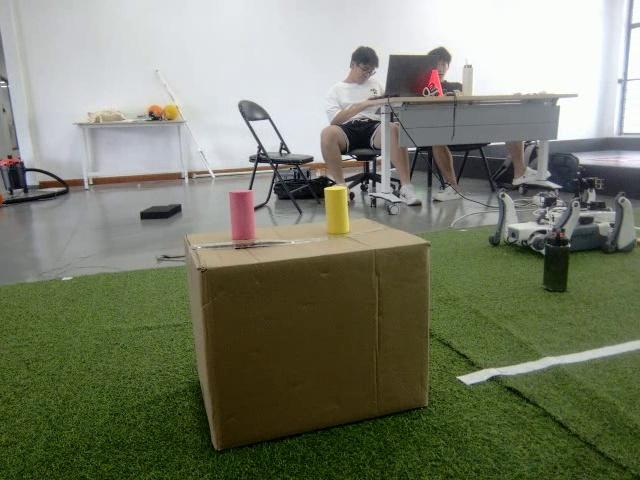red_cylinder: (229, 190, 256, 241)
yellow_cylinder: (324, 186, 350, 234)
